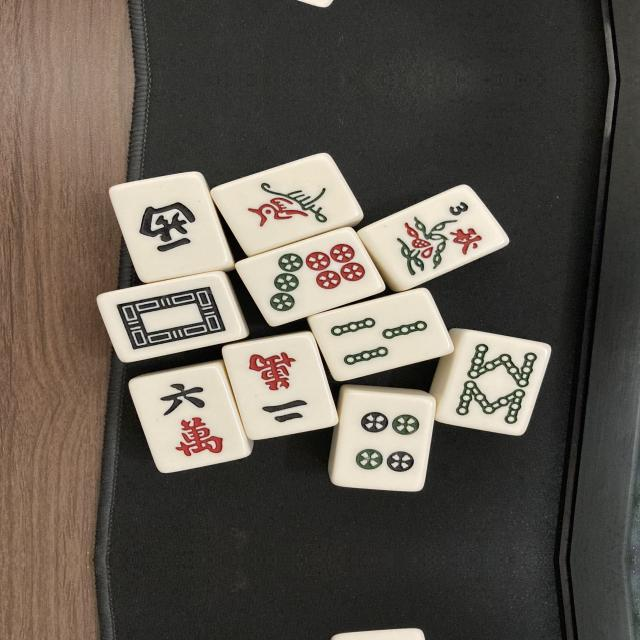bai: (102, 274, 242, 363)
ff3: (375, 186, 508, 289)
m2: (226, 337, 340, 443)
m6: (132, 363, 250, 474)
s1: (218, 168, 353, 260)
s3: (320, 303, 442, 381)
s8: (445, 336, 547, 433)
t4: (334, 392, 433, 492)
t7: (241, 230, 384, 326)
west: (126, 180, 216, 270)
